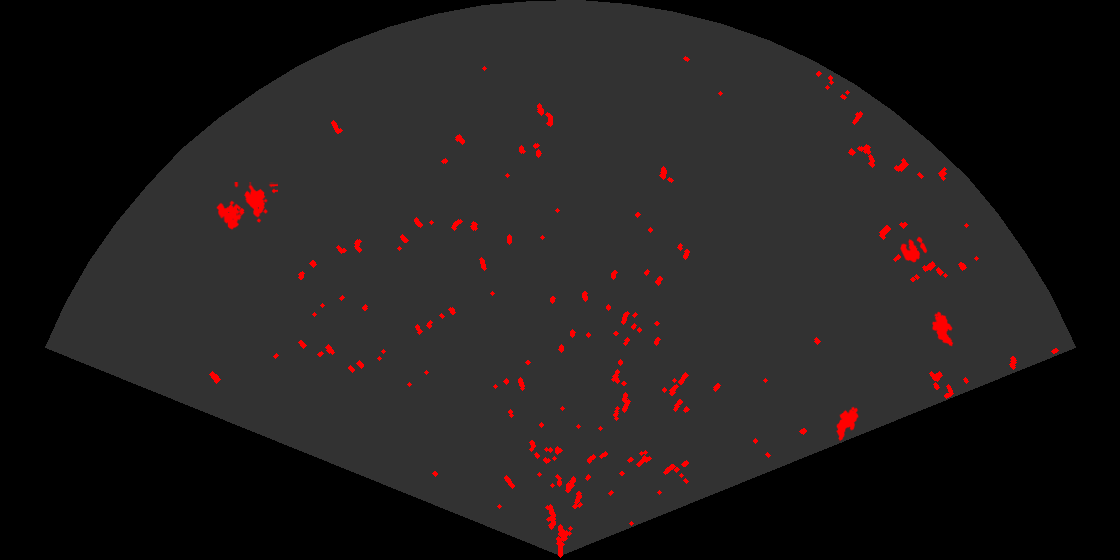AUV: (930, 310, 955, 348), (835, 405, 860, 443)
ball: (899, 235, 929, 264)
cage: (215, 182, 278, 231)
